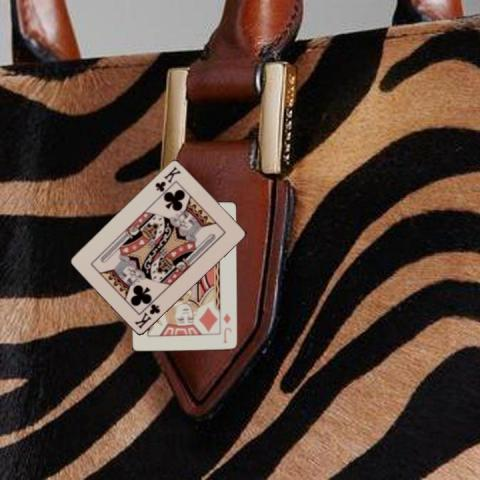Jd: (219, 311, 233, 344)
Kc: (152, 163, 182, 193), (132, 301, 162, 330)
